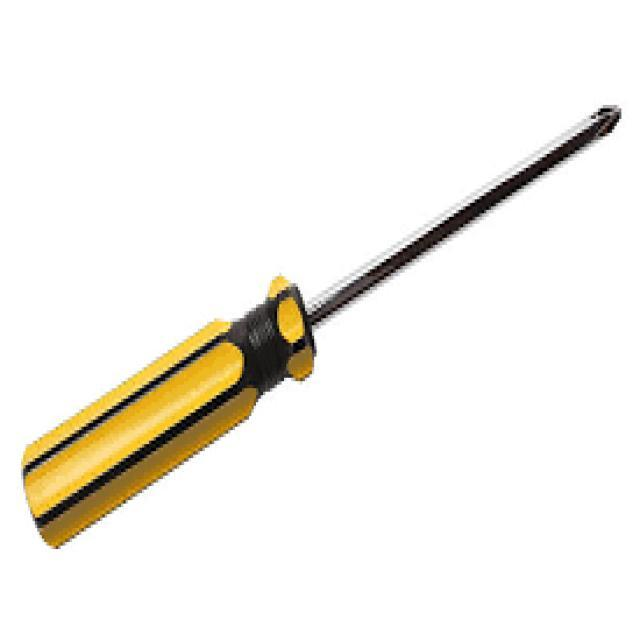screwdriver: (2, 87, 635, 580)
